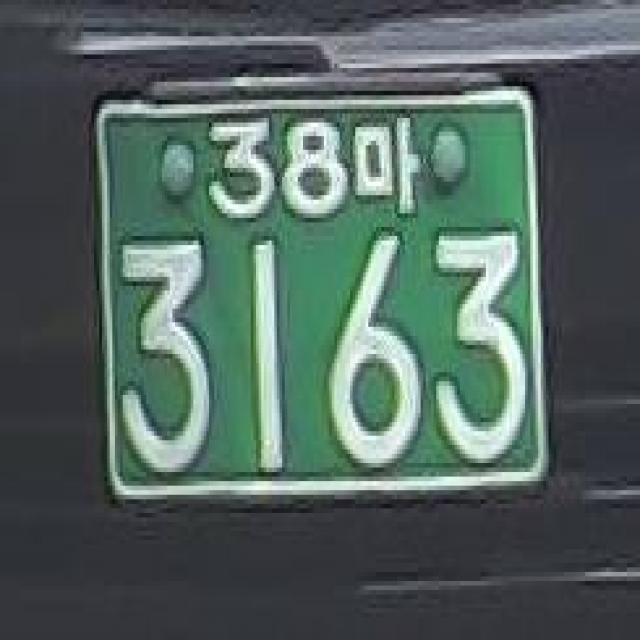illegal_plate: (80, 66, 570, 543)
